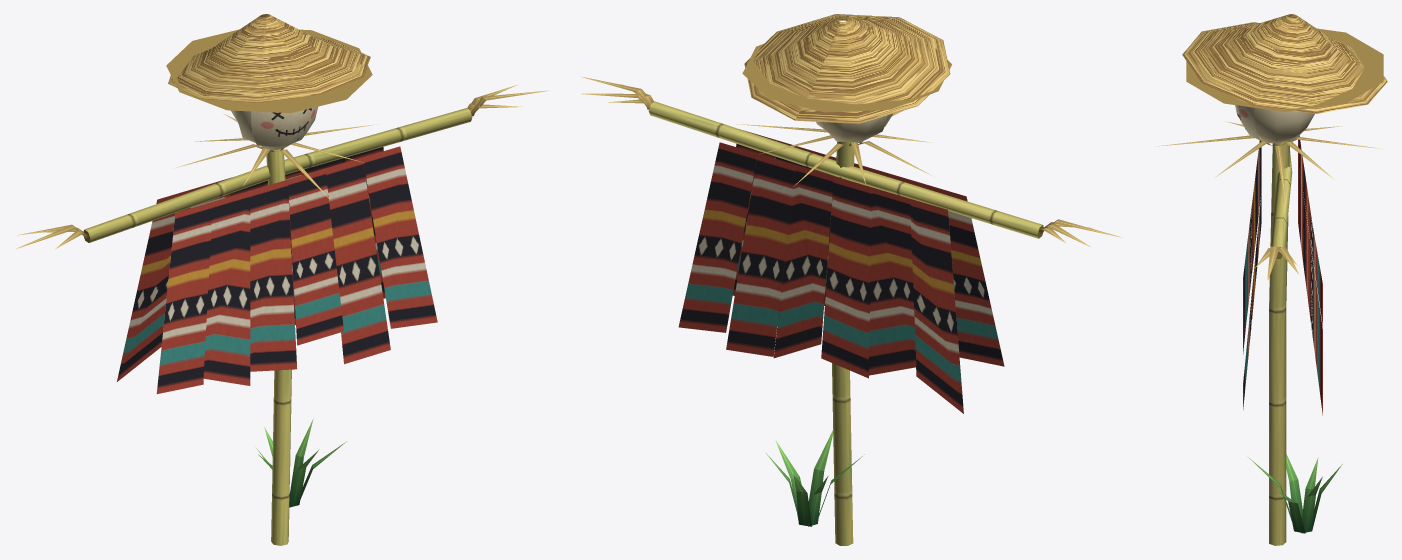
The model's file is terrace_scarecrow.glb.
3 views of the same model, side by side, from view 1: azimuth 30°, elevation 25°; view 2: azimuth 150°, elevation 25°; view 3: azimuth 270°, elevation 25° (orthographic).
Parts seen in each view (by area): view 1: terrace_scarecrow_body, terrace_scarecrow_straw; view 2: terrace_scarecrow_body, terrace_scarecrow_straw; view 3: terrace_scarecrow_body, terrace_scarecrow_straw.
Boxes of the visible parts, x1,y1,x2,y2 form: terrace_scarecrow_body: (83, 14, 472, 545); terrace_scarecrow_straw: (16, 84, 549, 507); terrace_scarecrow_body: (648, 14, 1043, 545); terrace_scarecrow_straw: (581, 76, 1122, 526); terrace_scarecrow_body: (1182, 14, 1387, 545); terrace_scarecrow_straw: (1155, 122, 1383, 533).
Size of the model in its own units: 2.38 by 2.22 by 0.9077.
Materials: 2 (2 with a texture image).
